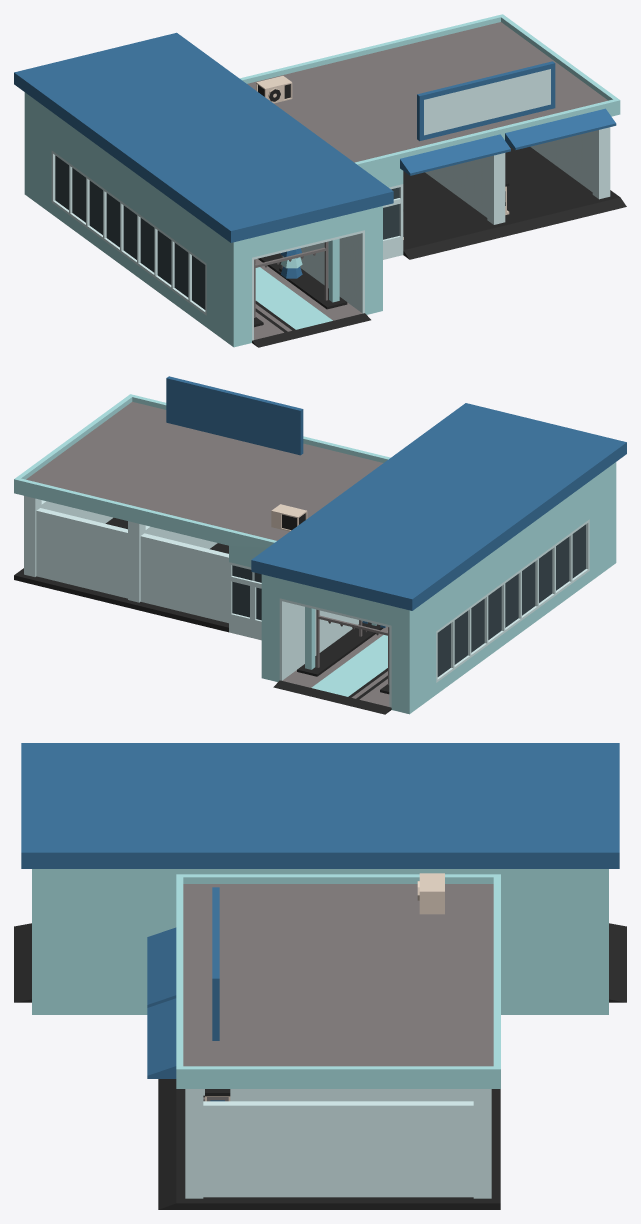
The model's file is buildings_building-carwash.fbx.
3 renders of one model, top to bottom at view 1: azimuth 30°, elevation 25°; view 2: azimuth 150°, elevation 25°; view 3: azimuth 270°, elevation 25°, orthographic. The views are drawn at different scales.
Visible parts, largest first — view 1: buildings_building_carwash; view 2: buildings_building_carwash; view 3: buildings_building_carwash.
Part boxes in pixels (x1,y1,x2,y2): buildings_building_carwash: (14, 14, 626, 347); buildings_building_carwash: (14, 376, 626, 714); buildings_building_carwash: (14, 743, 626, 1209).
Size of the model in its own units: 200 by 60.92 by 173.
